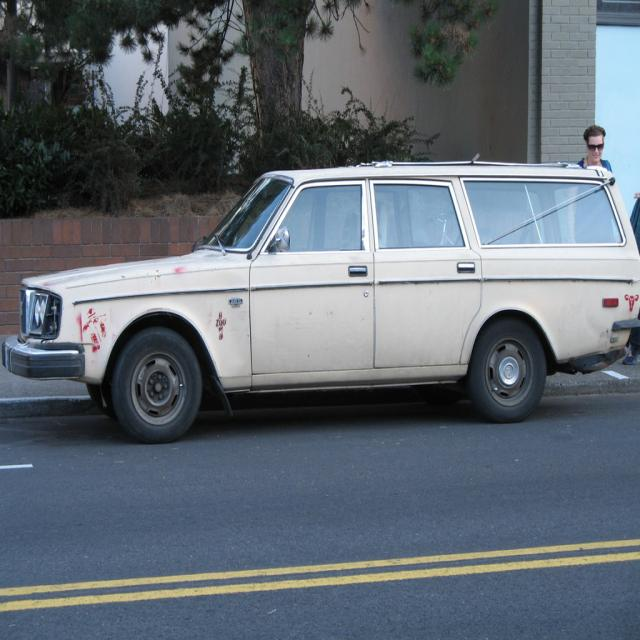car: (0, 162, 639, 448)
